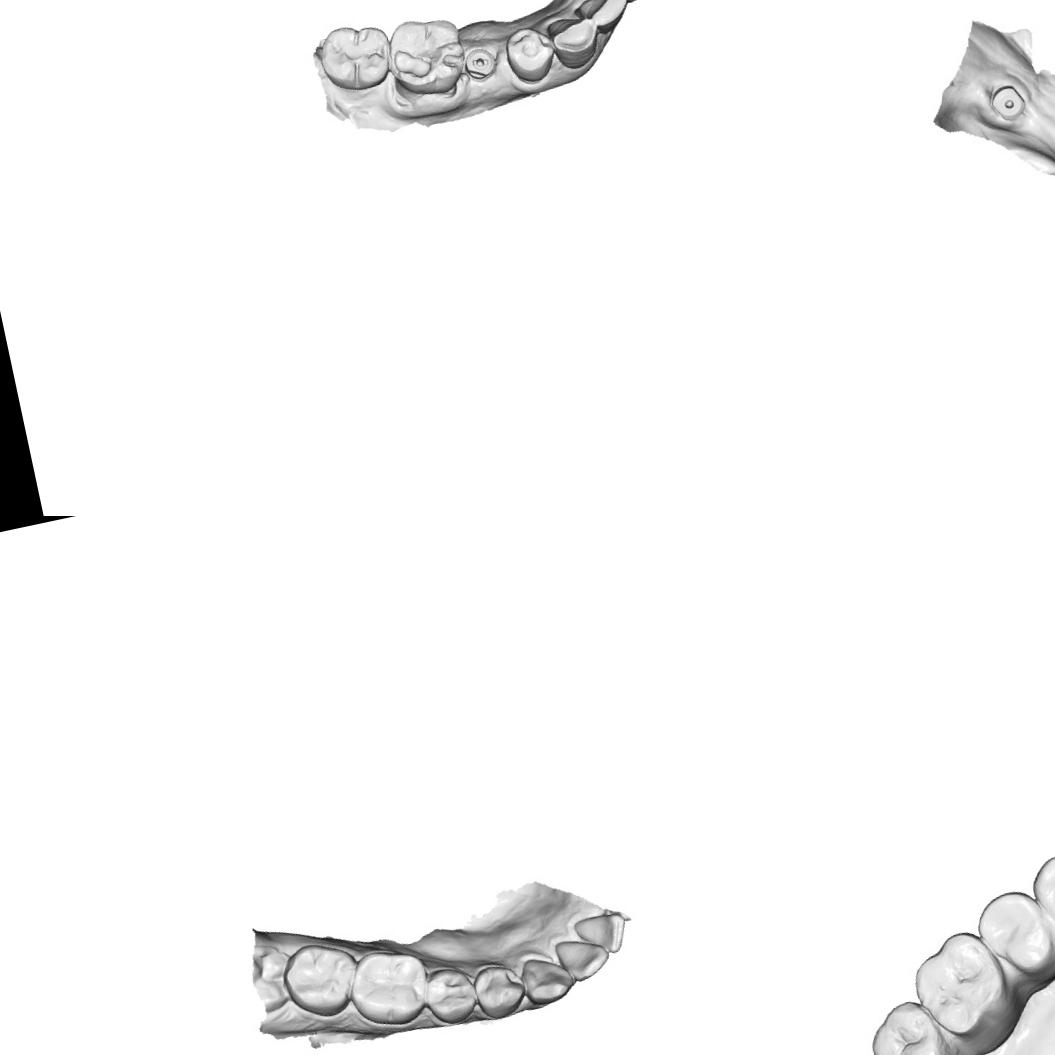canine: (545, 8, 605, 73), (517, 950, 578, 1009)
implant: (986, 80, 1030, 124)
implant_minus: (459, 42, 501, 84)
incisor: (550, 930, 615, 988), (569, 908, 633, 962), (572, 0, 634, 36)
molar: (904, 924, 1014, 1048), (341, 941, 436, 1035), (380, 8, 472, 104), (276, 935, 366, 1026), (312, 16, 399, 98), (860, 991, 963, 1055)
premolar: (968, 882, 1055, 986), (498, 20, 562, 89), (420, 962, 480, 1028), (470, 958, 530, 1022), (1025, 842, 1055, 952)
